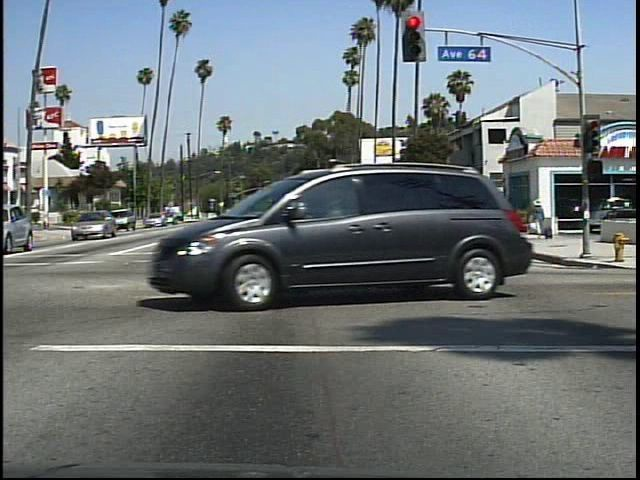person: (529, 194, 555, 247)
